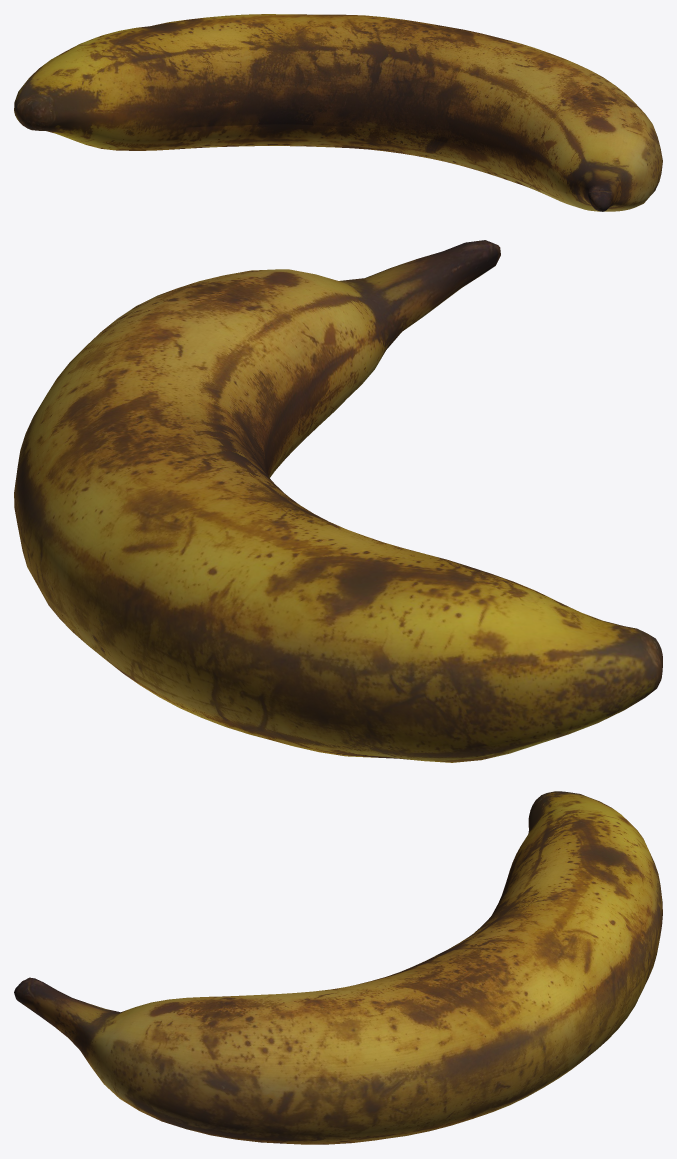
The model's file is Low Poly Banana.fbx.
3 views of the same model, one above another, from view 1: azimuth 30°, elevation 25°; view 2: azimuth 150°, elevation 25°; view 3: azimuth 270°, elevation 25° (orthographic). The views are drawn at different scales.
Visible parts, largest first — view 1: banana; view 2: banana; view 3: banana.
Boxes of the visible parts, bbox=[...] form: banana: bbox=[14, 14, 662, 211]; banana: bbox=[14, 240, 662, 762]; banana: bbox=[14, 791, 662, 1144].
Size of the model in its own units: 466 by 119 by 479.
1 material, 1 textured.
